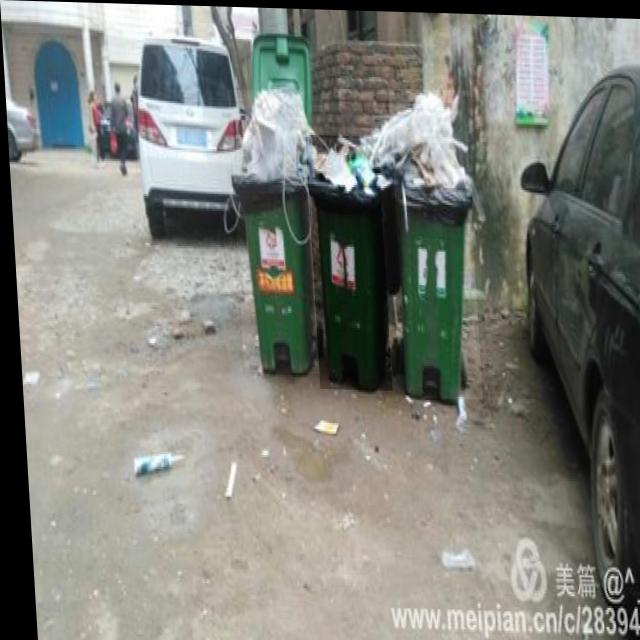overflow: (388, 86, 478, 397), (227, 88, 315, 372), (304, 133, 388, 389)
